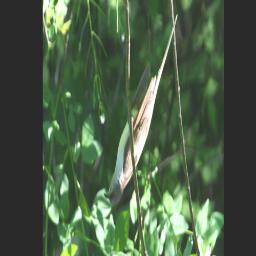Cuckoo: (104, 11, 179, 207)
